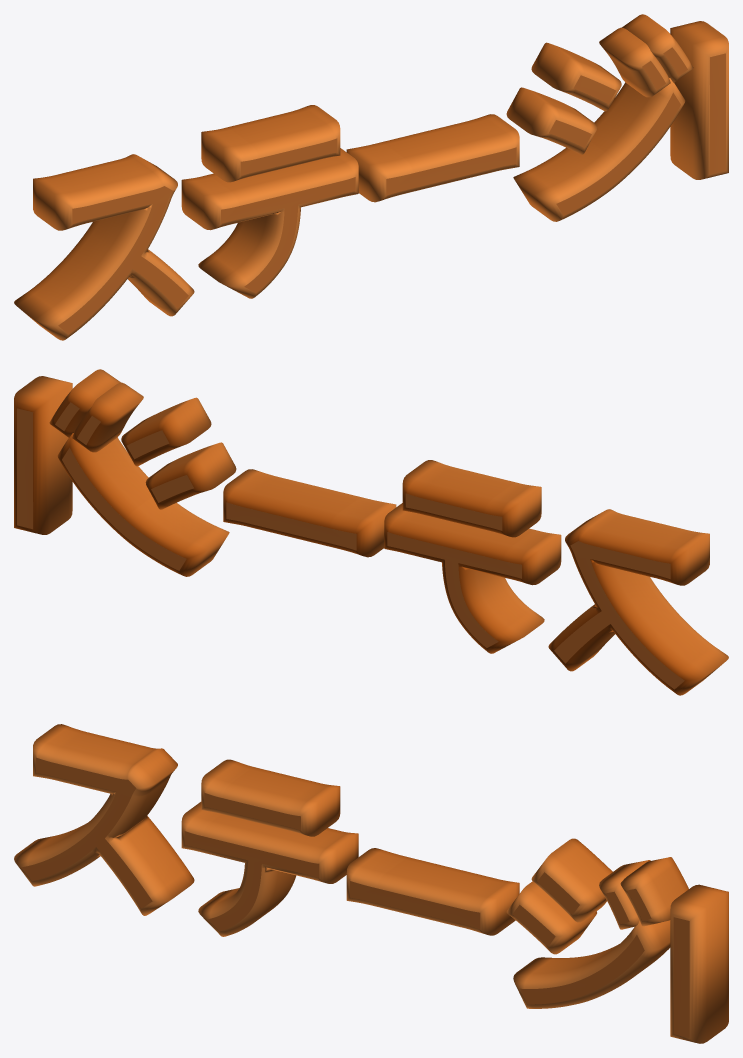
File: stage1.obj
3 renders of one model, top to bottom at view 1: azimuth 30°, elevation 25°; view 2: azimuth 150°, elevation 25°; view 3: azimuth 330°, elevation 25°, orthographic.
Visible parts, largest first — view 1: テキスト; view 2: テキスト; view 3: テキスト.
Part boxes in pixels (x1,y1,x2,y2): テキスト: [14, 14, 728, 340]; テキスト: [14, 369, 728, 695]; テキスト: [14, 724, 728, 1043].
Size of the model in its own units: 2.19 by 0.5018 by 0.2.
1 material, 1 textured.
